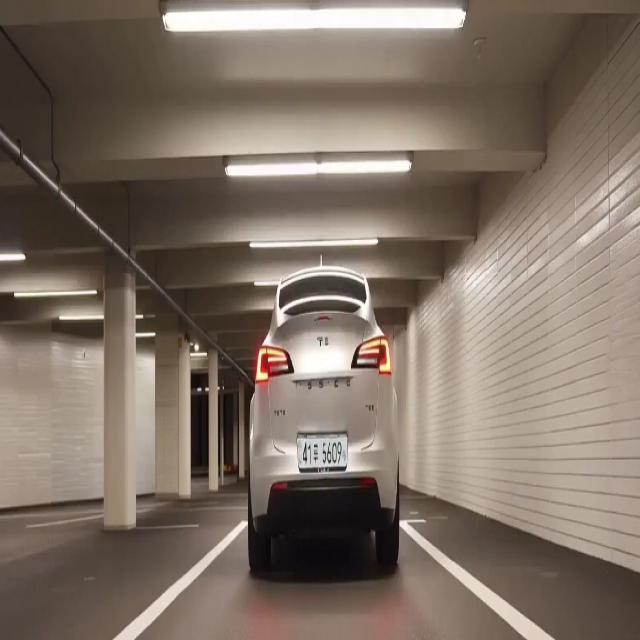car: (296, 436, 348, 471)
carev: (296, 438, 302, 471), (342, 441, 347, 466)
